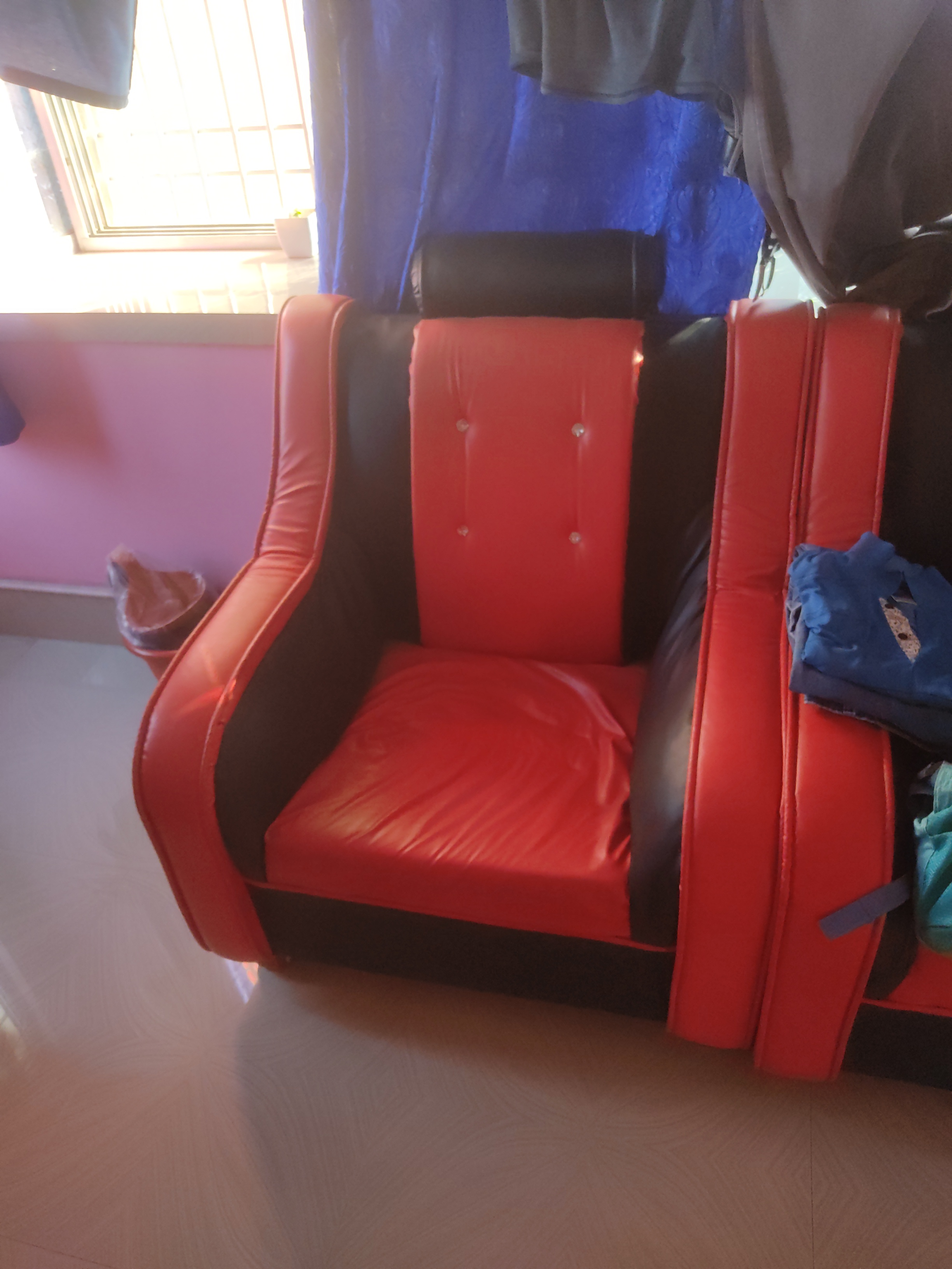sofa: (133, 223, 782, 1066), (744, 223, 952, 1077)
